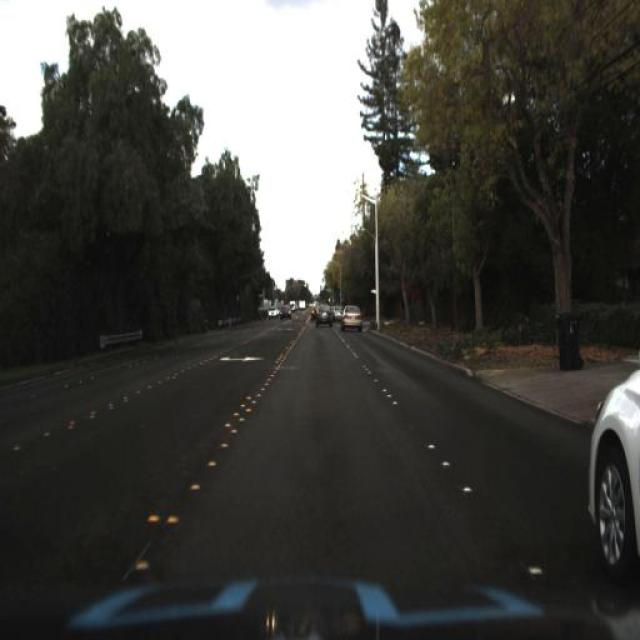car: (582, 358, 638, 576), (338, 302, 364, 336), (312, 299, 334, 329), (266, 298, 280, 323)
